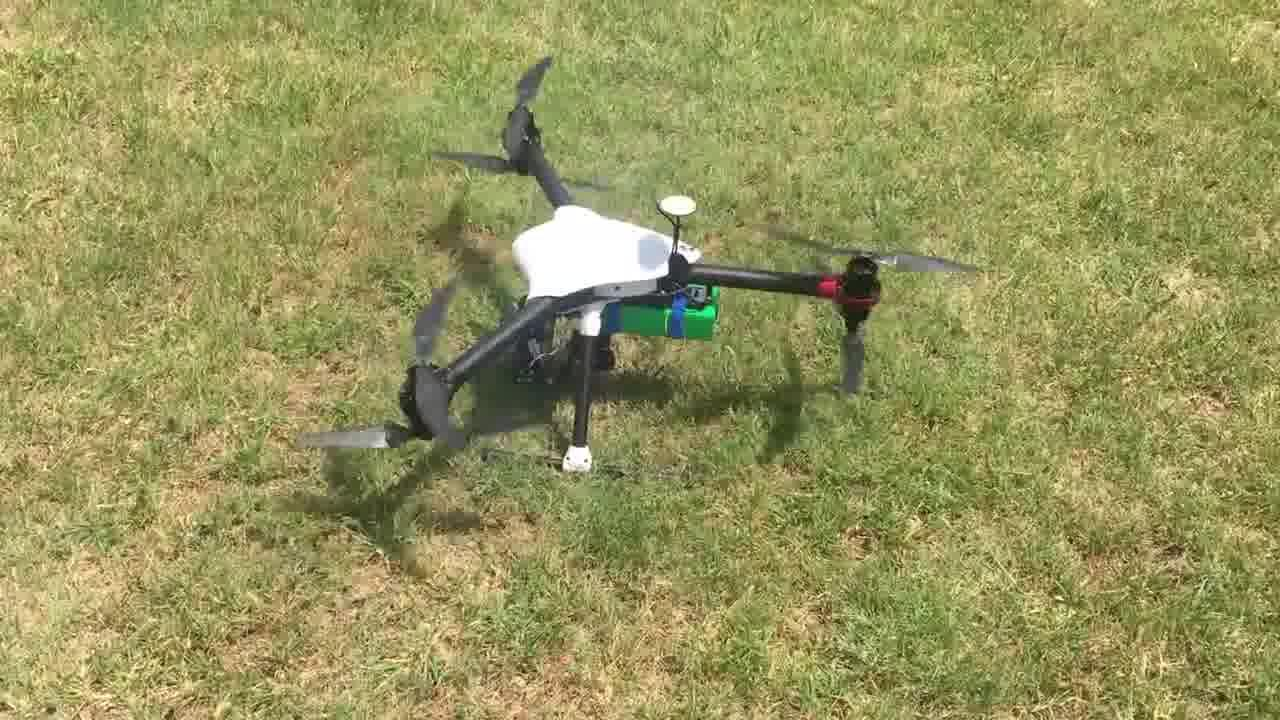drone: (298, 53, 886, 524)
